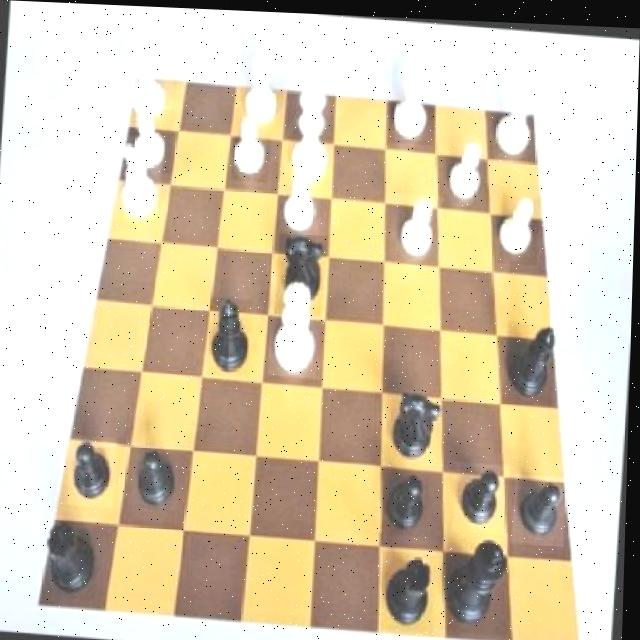bishop: (506, 316, 561, 402), (208, 294, 255, 375)
black-bishop: (446, 533, 517, 631)
black-king: (276, 230, 329, 315), (391, 380, 445, 462)
black-knight: (454, 456, 512, 530), (514, 469, 570, 541), (133, 442, 183, 518), (68, 434, 119, 508), (382, 468, 434, 533)
black-queen: (44, 519, 103, 599), (384, 548, 440, 630)
black-rook: (236, 33, 289, 136), (389, 49, 439, 141)
white-bishop: (285, 69, 339, 189)
white-king: (112, 134, 163, 221)
white-knight: (391, 189, 445, 261), (280, 160, 324, 239), (128, 105, 174, 171), (446, 131, 486, 206), (500, 190, 542, 261), (233, 113, 273, 180)
white-pawn: (268, 272, 328, 377)
white-queen: (123, 33, 178, 126), (493, 76, 542, 160)
